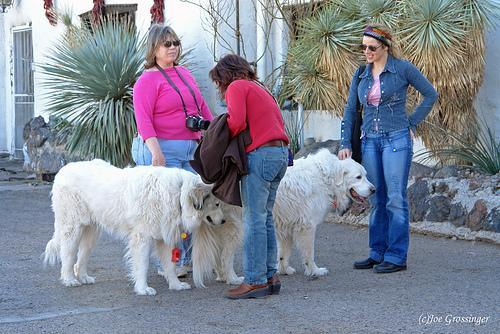Great_Pyrenees: (188, 147, 379, 290), (41, 158, 227, 297)
